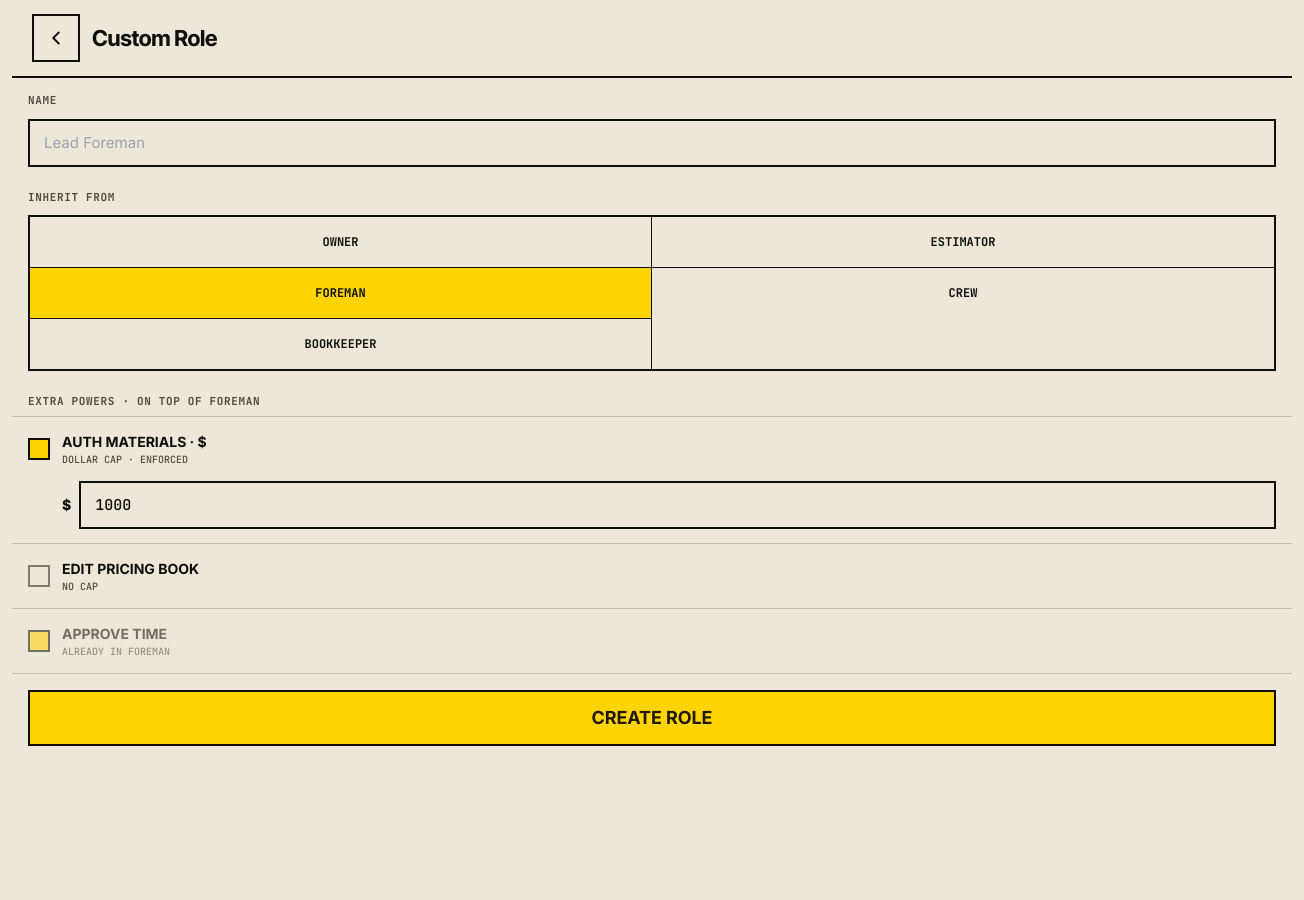
CustomRoleScreen › blocks create with an empty name
The image size is (1304, 900).
Click the button "Create role".
click(652, 718)  # box [28,690,1276,746]
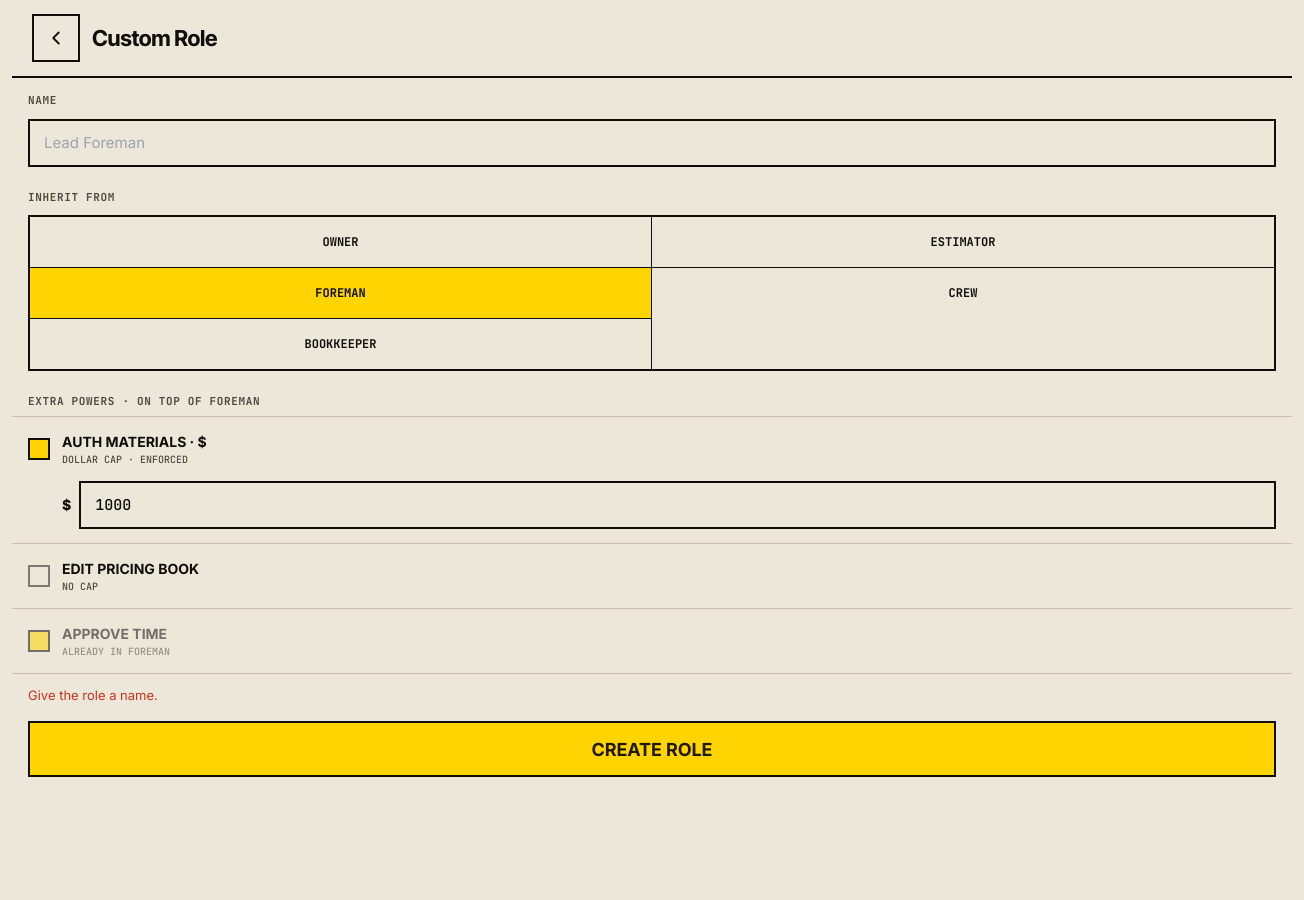
expect the text "Give the role a name." is shown: met, box [28,686,158,702]
